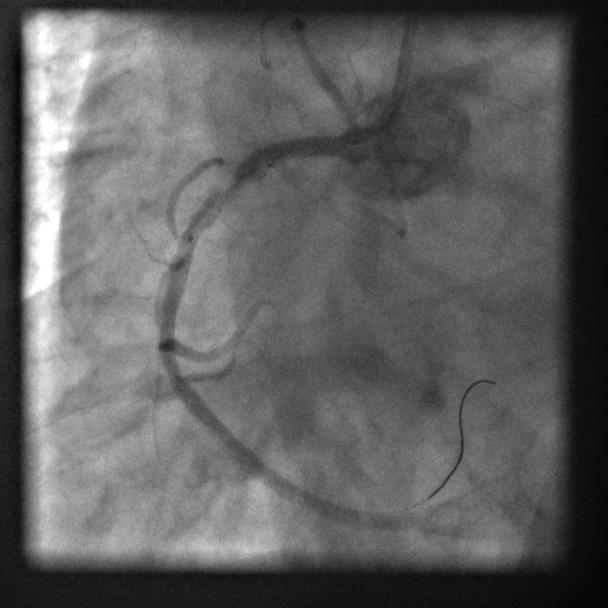Stenosis: (207, 161, 247, 214)
